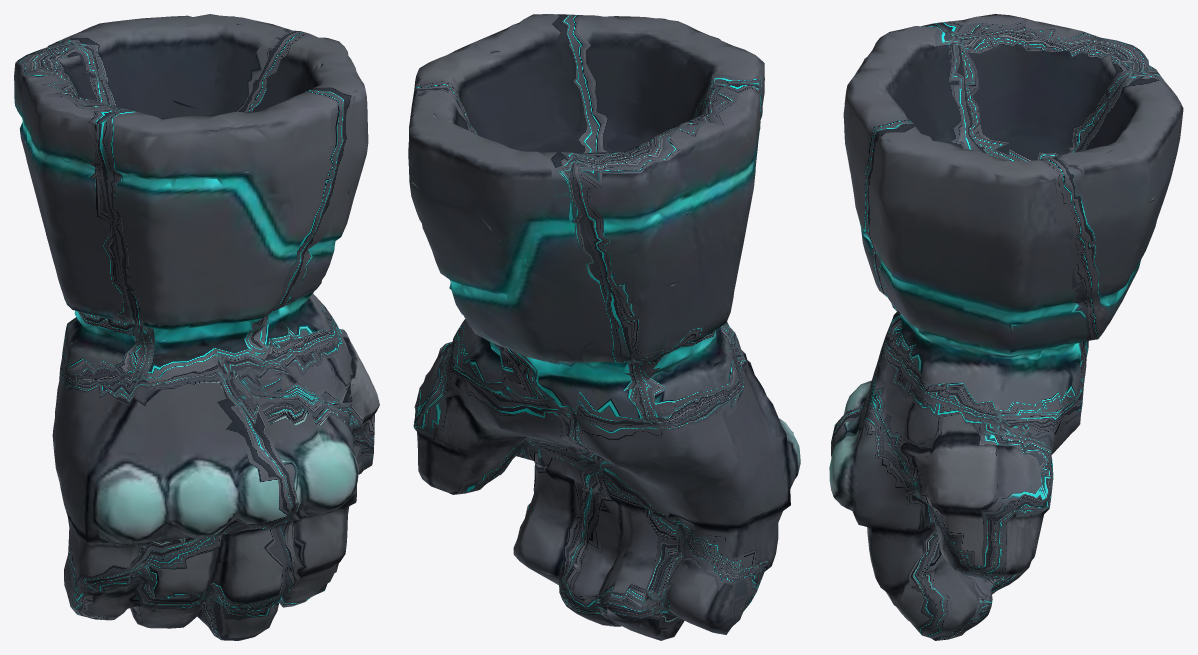
Rendered from vanguard_glove_B.glb.
The picture shows the model from 3 angles, left to right: view 1: azimuth 30°, elevation 25°; view 2: azimuth 150°, elevation 25°; view 3: azimuth 270°, elevation 25°; orthographic projection. The views are drawn at different scales.
Bounding box in the file's own units: 0.1773 × 0.2897 × 0.1699.
1 material, 1 textured.
